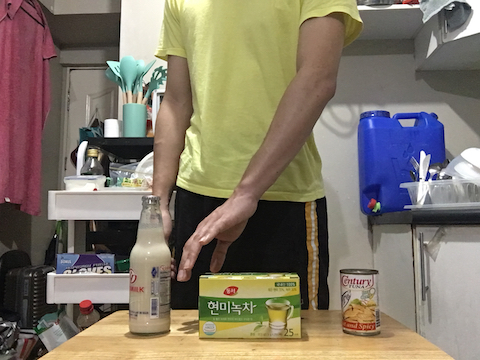bottle: (125, 193, 177, 338)
box: (195, 268, 306, 343)
can: (337, 264, 384, 338)
